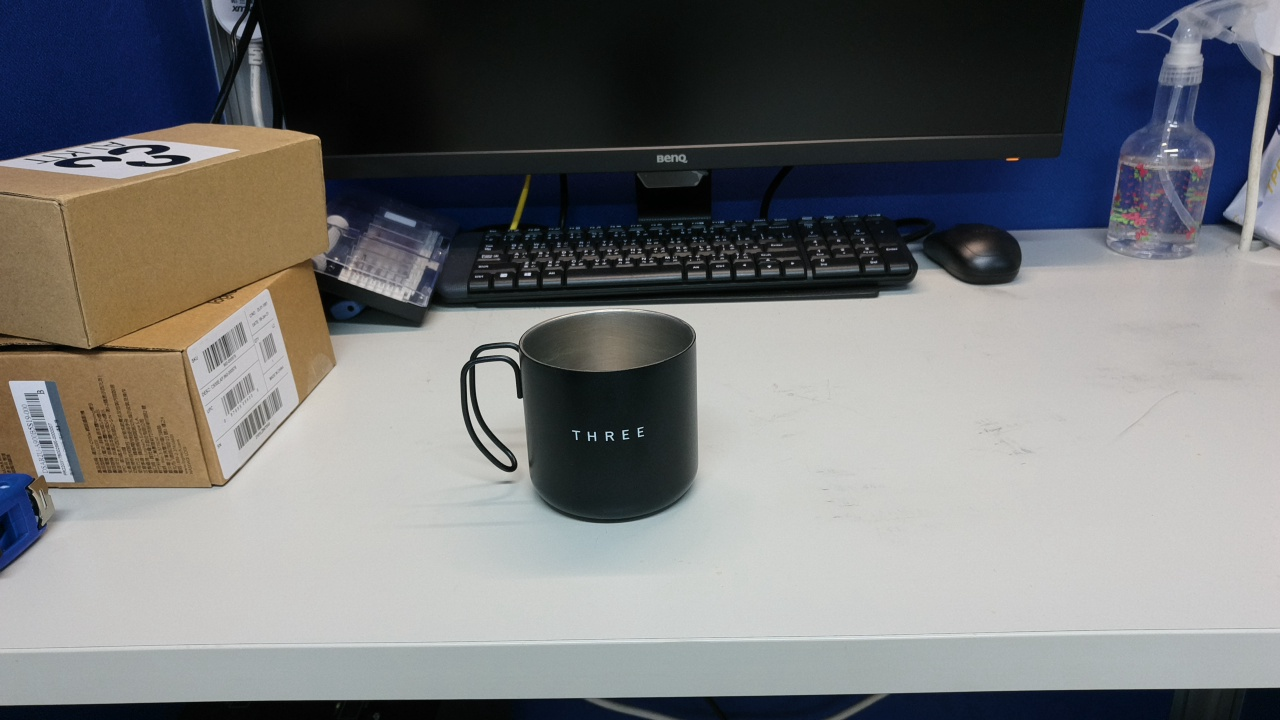circle: (867, 456, 1030, 576)
